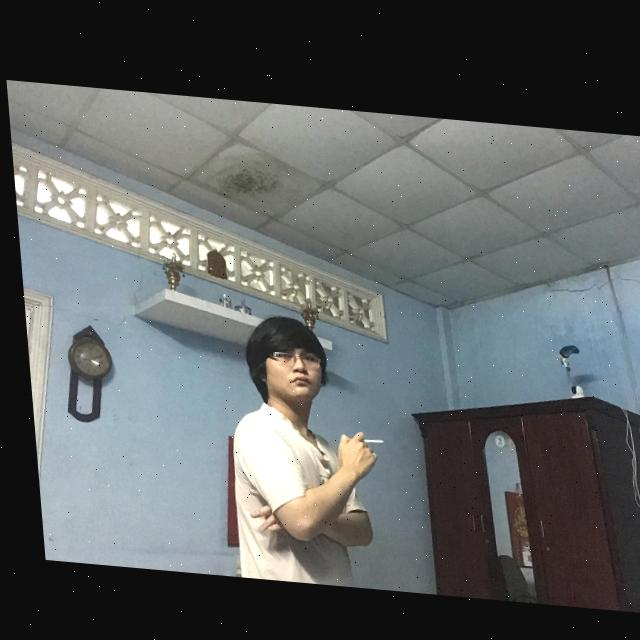cigarette: (356, 432, 377, 438)
